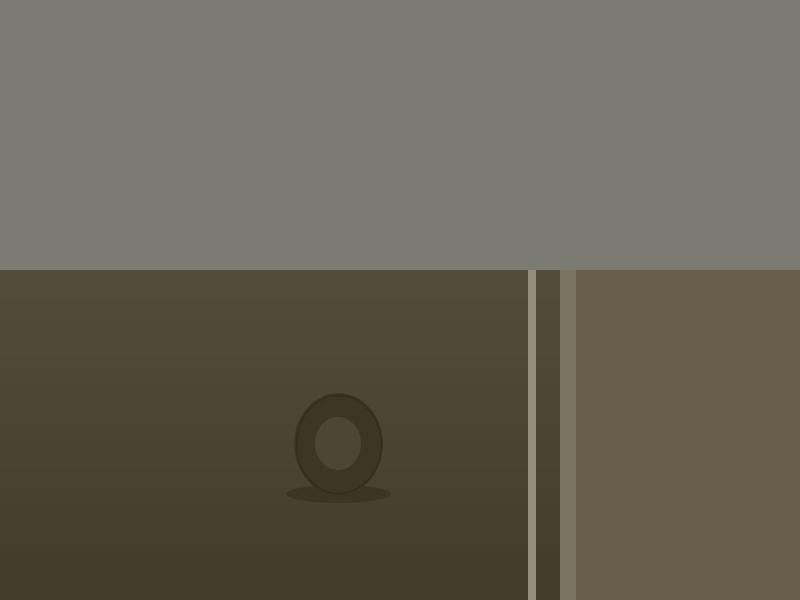ROAD_OBSTACLE: (294, 393, 383, 495)
